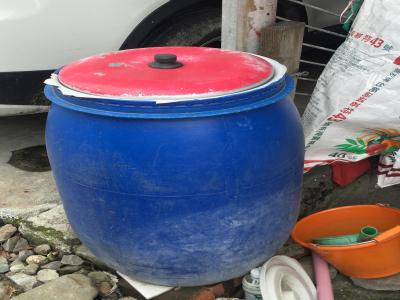bucket: (45, 46, 304, 289), (287, 200, 400, 283)
plastic_bag: (286, 1, 400, 176)
plate: (260, 254, 319, 300)
